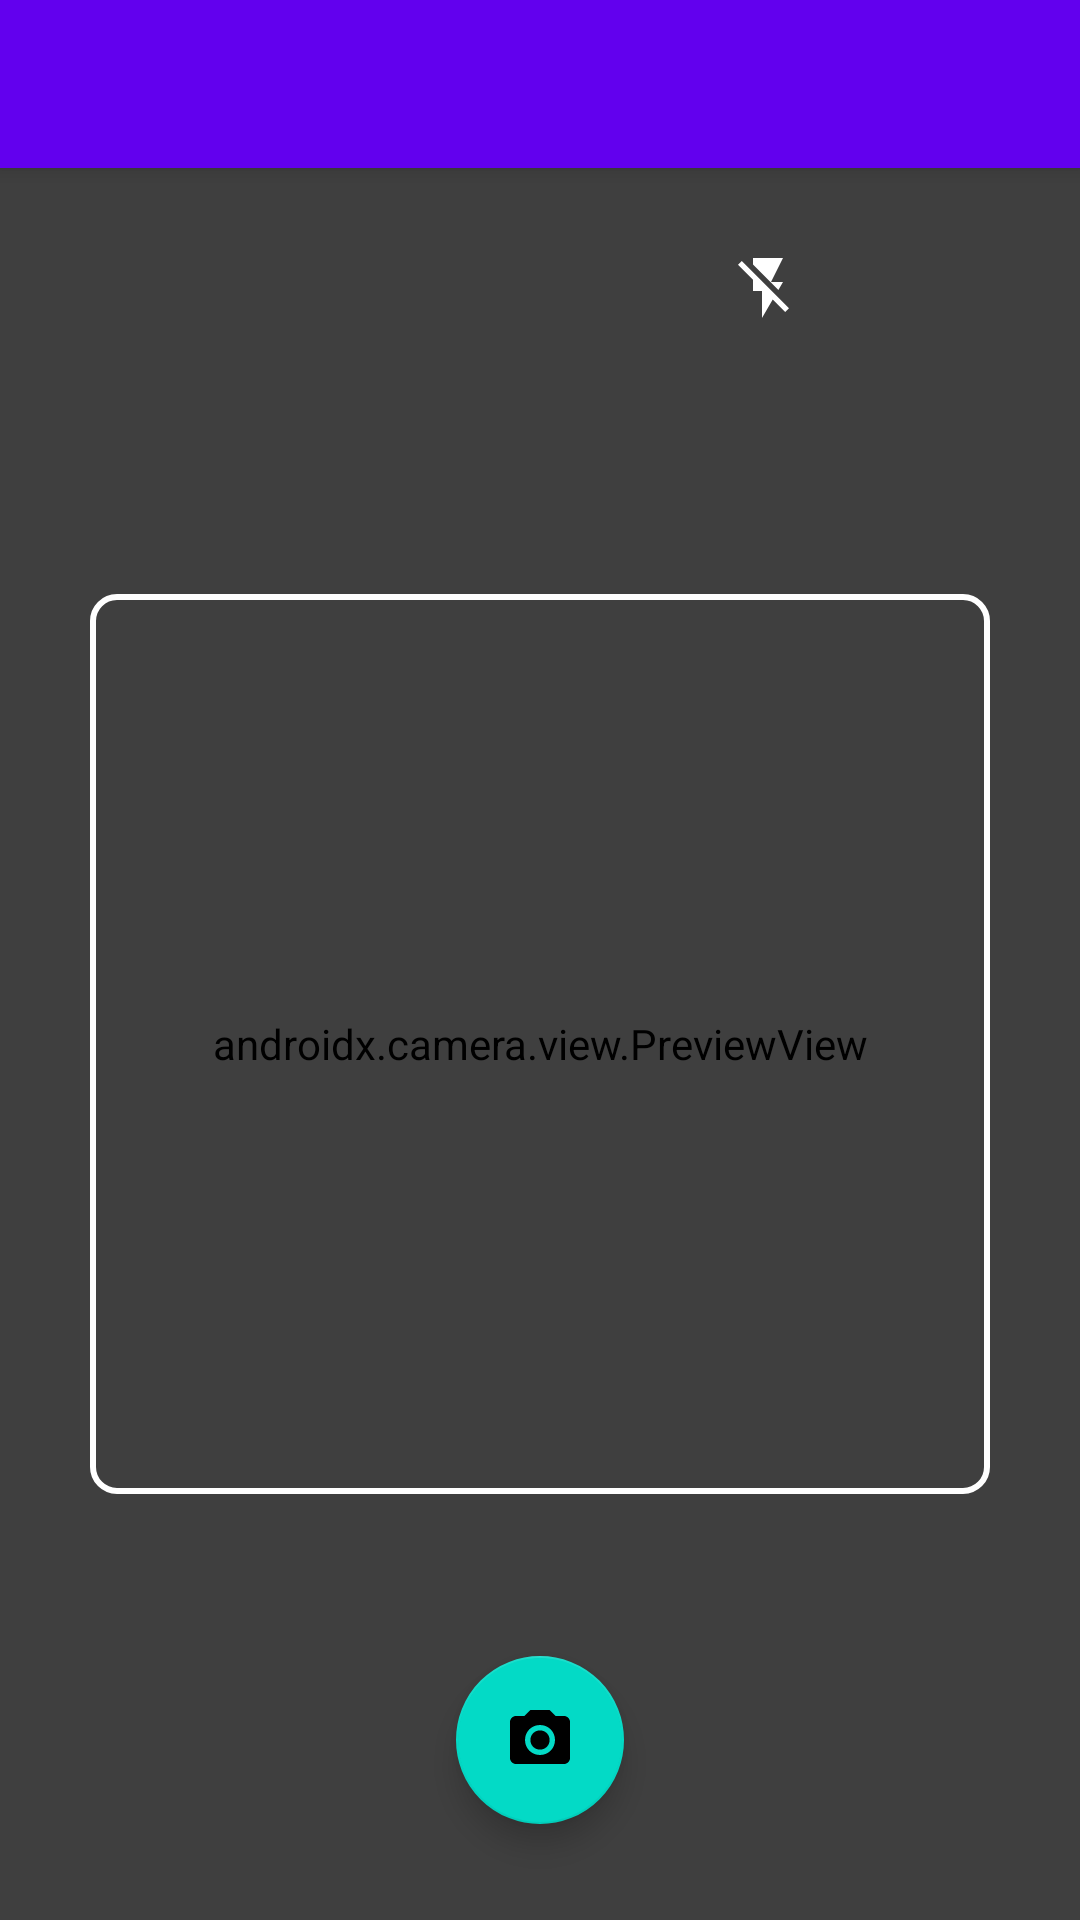

Icons on this 1080x1920 Android screen, each with the point to tap as (x=x, y=y):
Take Photo: (x=540, y=1740)
Toggle Flash: (x=763, y=288)
